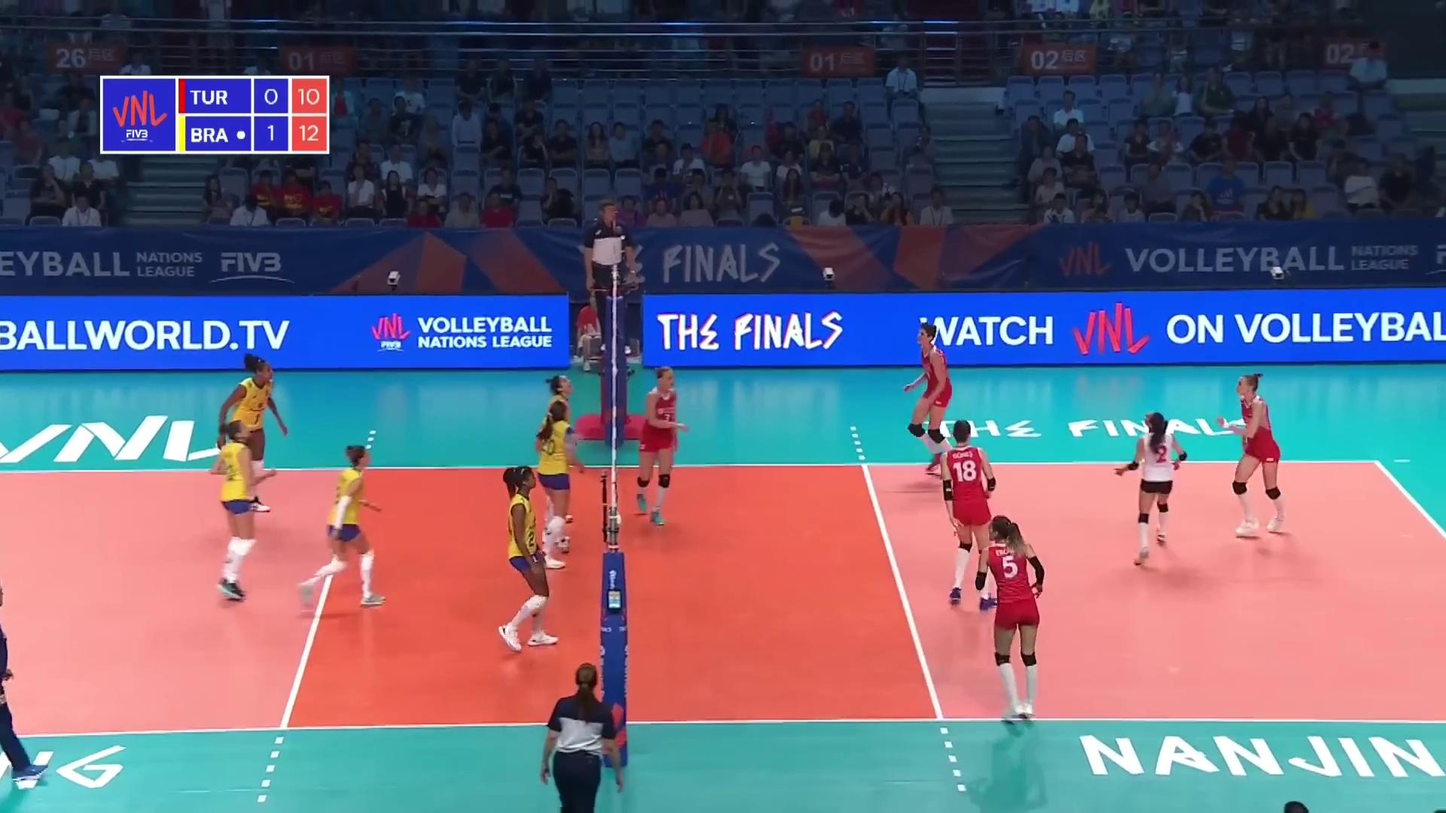player: (294, 442, 386, 612), (978, 517, 1048, 719), (937, 420, 1005, 606), (494, 464, 561, 650), (209, 419, 275, 604), (1112, 413, 1188, 572), (1220, 373, 1288, 538), (217, 357, 286, 513), (905, 323, 960, 490), (636, 365, 693, 524), (532, 401, 577, 566), (538, 372, 579, 530)
refree: (544, 660, 612, 810), (584, 199, 634, 357)
